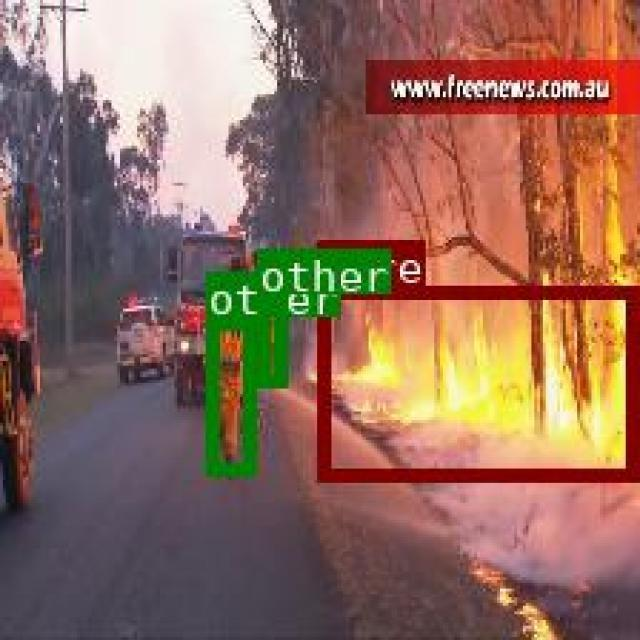fire: (315, 285, 634, 477)
